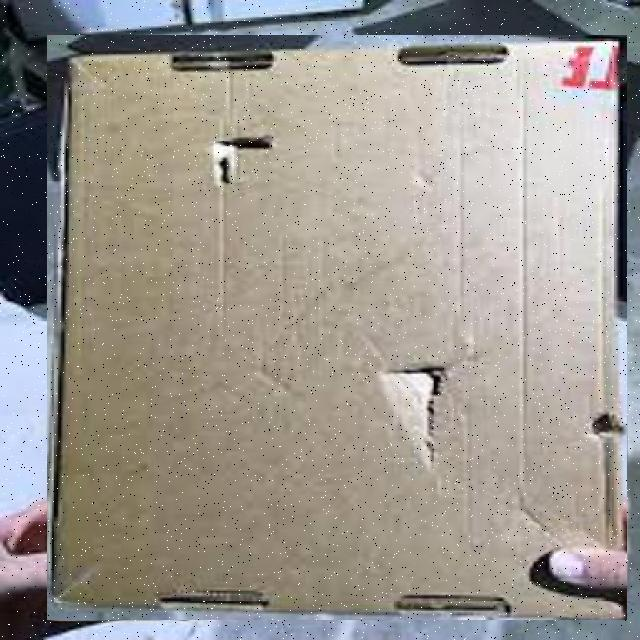defect: (48, 35, 628, 620)
